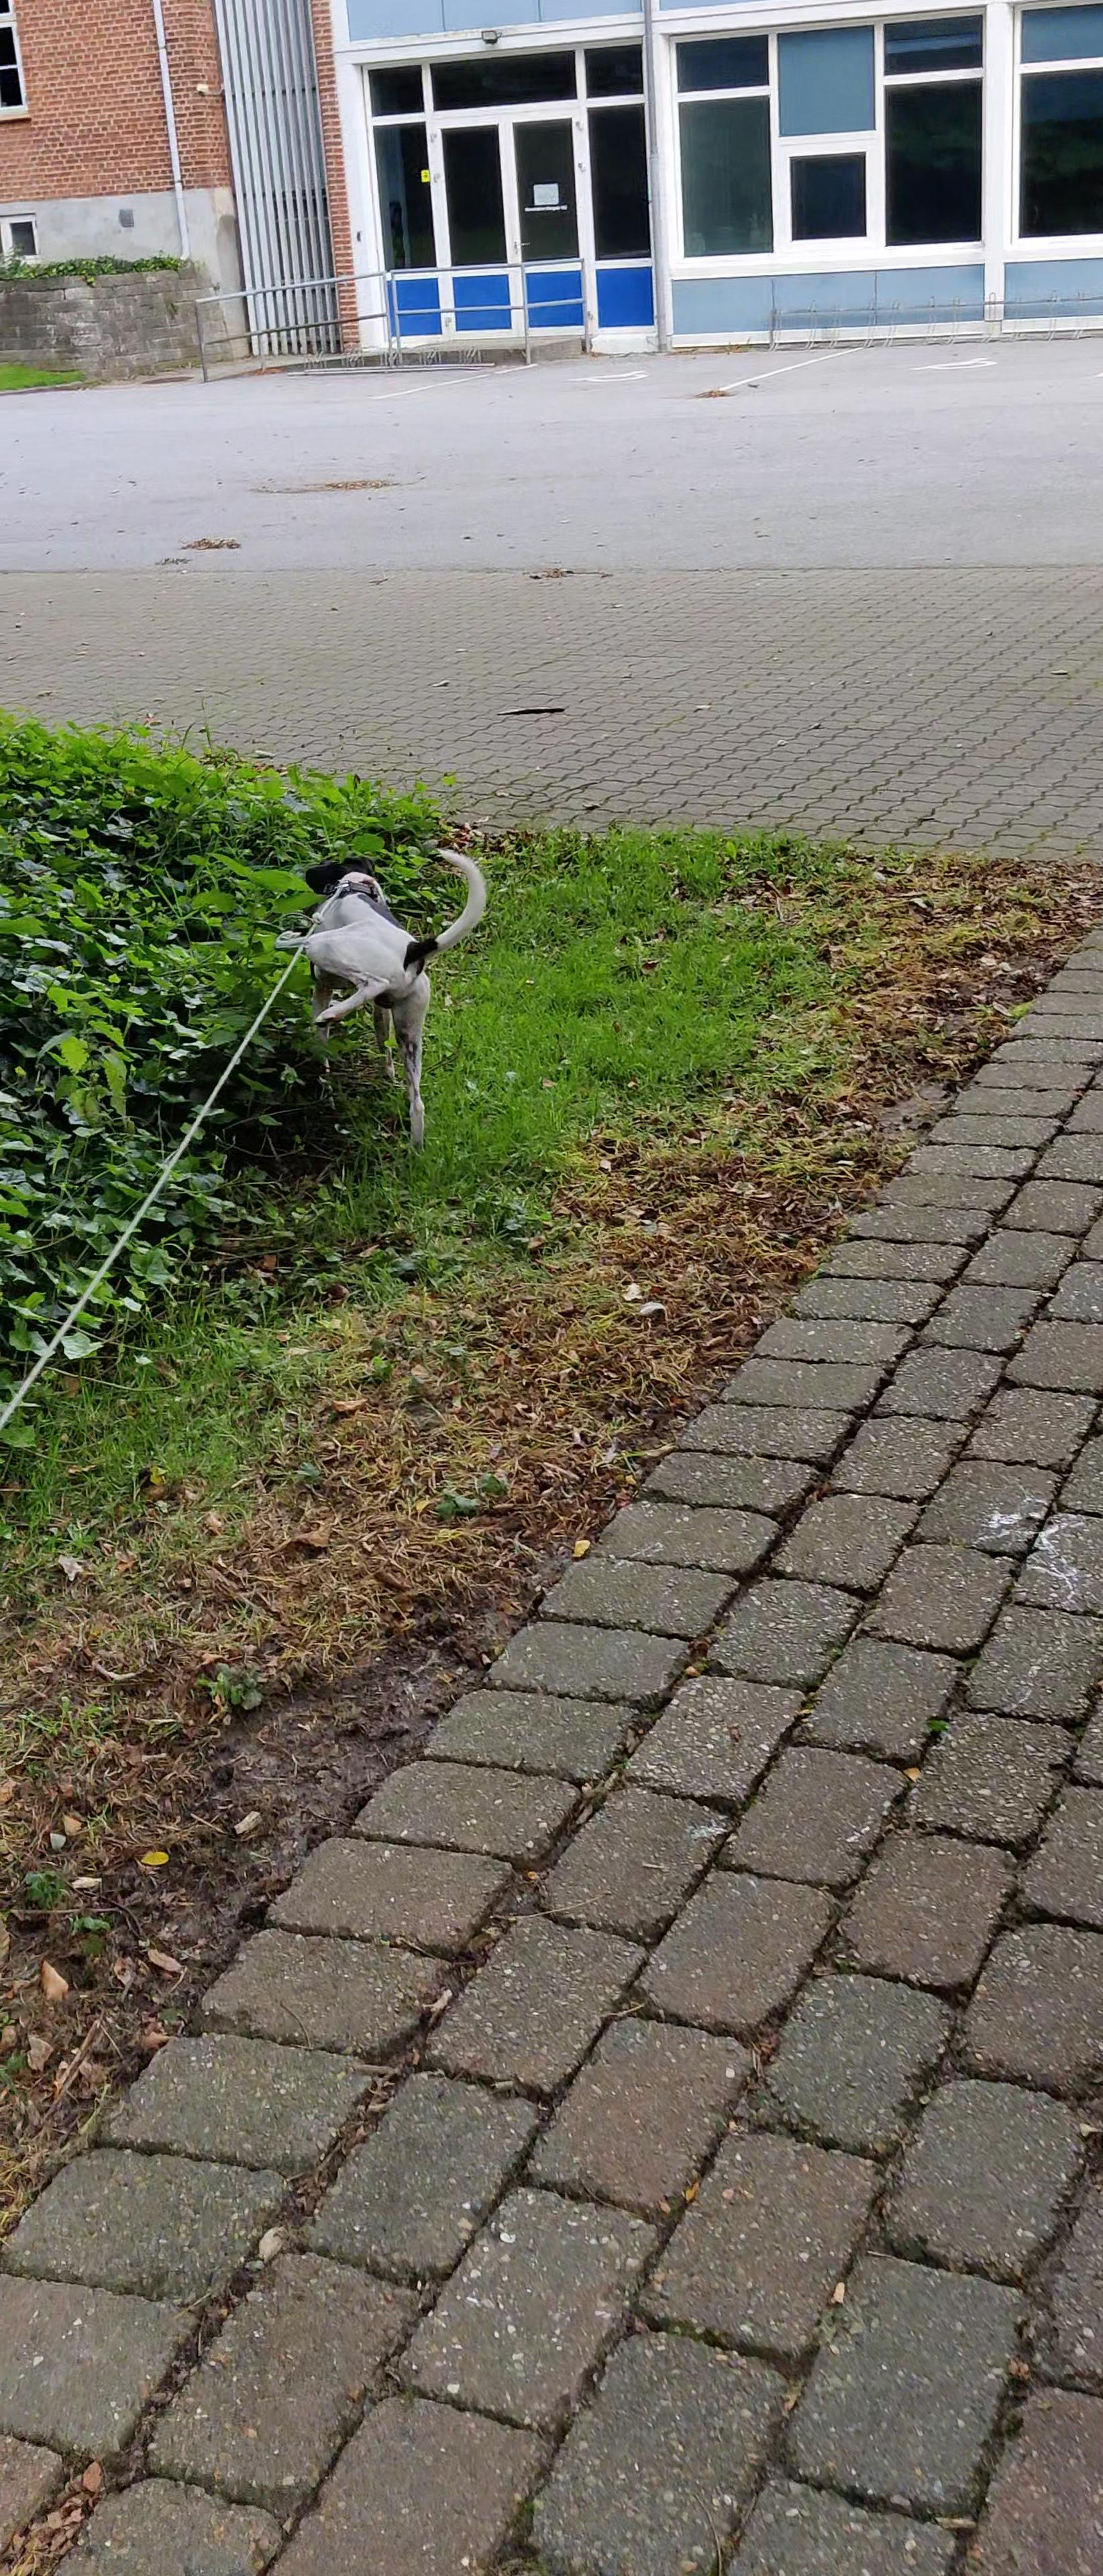Dog: (261, 843, 492, 1153)
